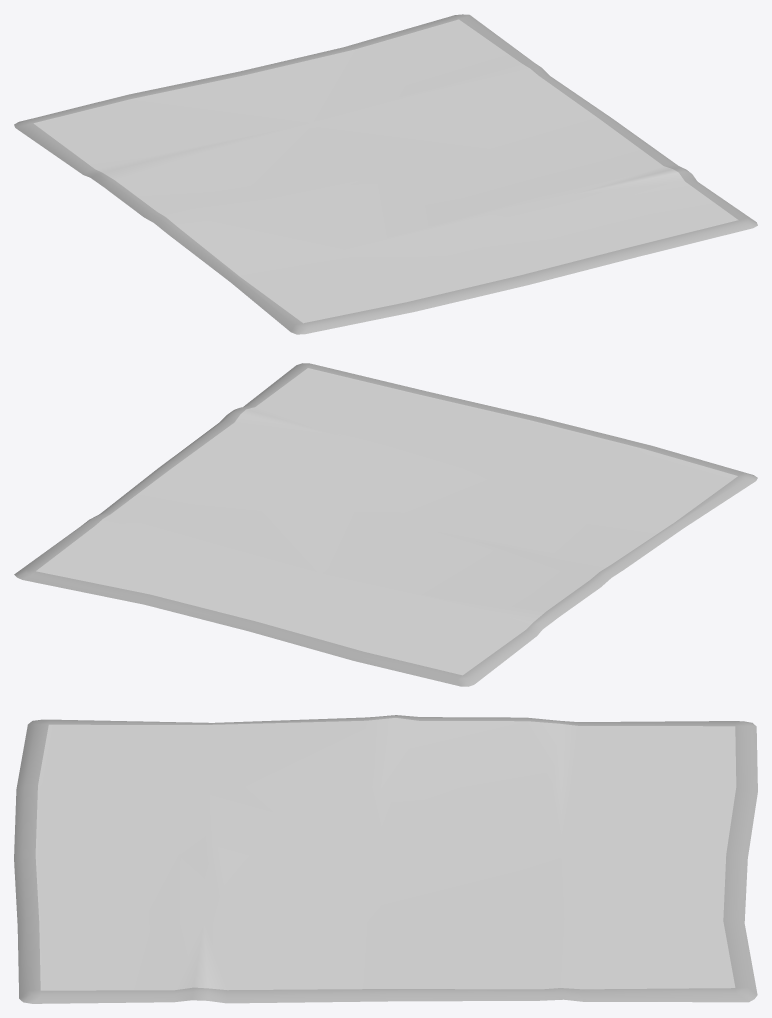
Rendered from carpet_012.fbx.
3 views of the same model, one above another, from view 1: azimuth 30°, elevation 25°; view 2: azimuth 150°, elevation 25°; view 3: azimuth 270°, elevation 25° (orthographic). The views are drawn at different scales.
Parts seen in each view (by area): view 1: carpet_012; view 2: carpet_012; view 3: carpet_012.
Boxes of the visible parts, <box> form: carpet_012: <box>14,14,757,334</box>; carpet_012: <box>14,363,757,686</box>; carpet_012: <box>14,715,757,1003</box>.
Bounding box in the file's own units: 514 × 568 × 9.39.
